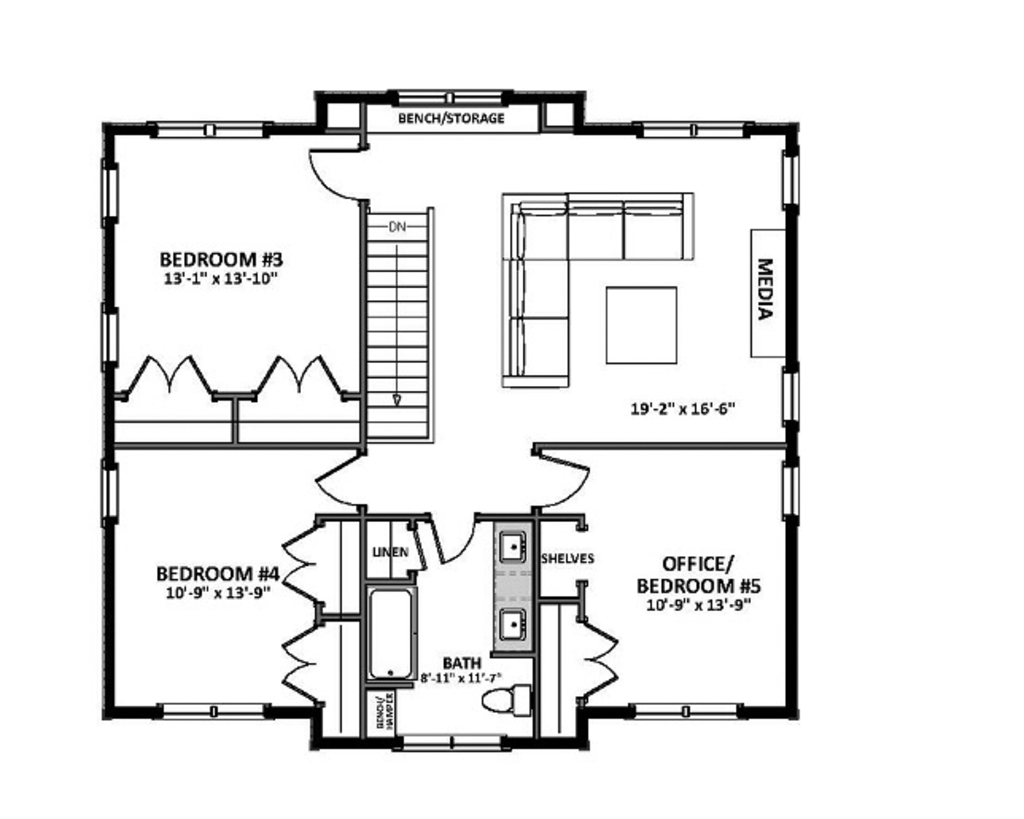door: (303, 143, 379, 207), (126, 354, 216, 403), (252, 356, 349, 400), (523, 453, 592, 513), (271, 527, 325, 601), (574, 616, 622, 697), (275, 627, 321, 705), (421, 511, 482, 565), (315, 451, 371, 508)
large_sink: (484, 668, 532, 722)
small_sink: (490, 520, 536, 659)
stairs: (358, 210, 446, 448)
tub: (364, 577, 425, 689)
window: (634, 116, 749, 143), (150, 697, 266, 722), (403, 730, 507, 755), (770, 363, 811, 424), (149, 120, 259, 140), (387, 89, 502, 108), (628, 700, 742, 719), (775, 146, 808, 210), (97, 460, 128, 525), (97, 305, 128, 367), (99, 159, 126, 229)
